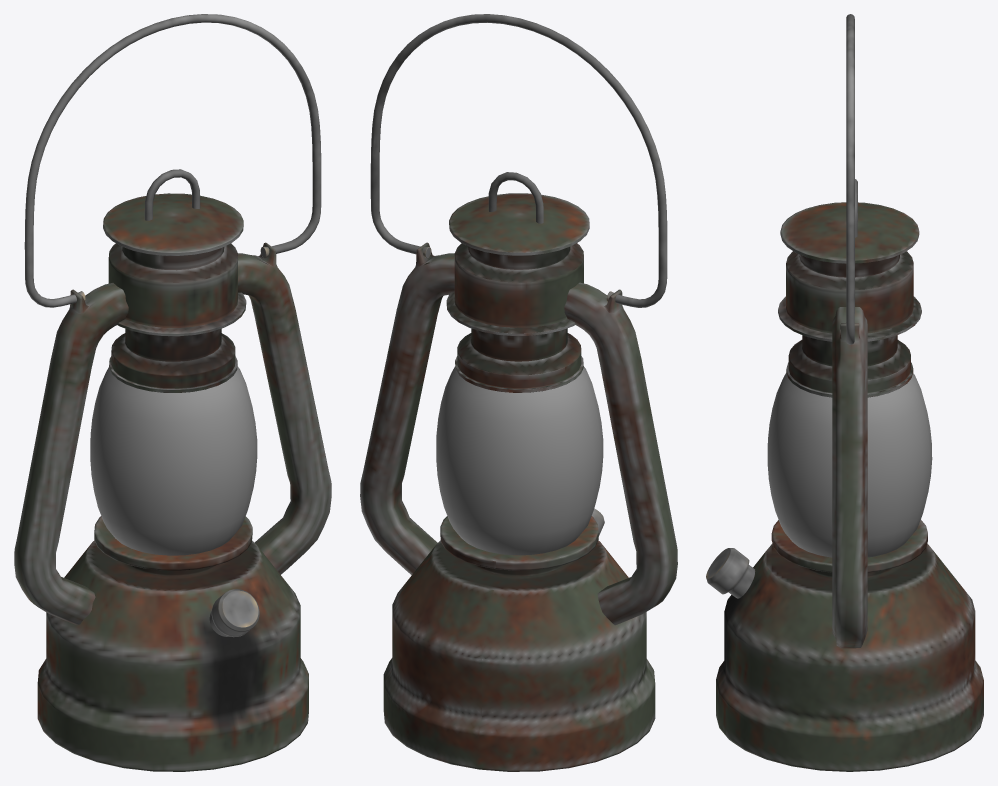
File: Lamp.FBX
The picture shows the model from 3 angles, left to right: view 1: azimuth 30°, elevation 25°; view 2: azimuth 150°, elevation 25°; view 3: azimuth 270°, elevation 25°; orthographic projection.
Parts seen in each view (by area): view 1: Lamp; view 2: Lamp; view 3: Lamp.
Part boxes in pixels (x1,y1,x2,y2): Lamp: [14, 14, 331, 771]; Lamp: [360, 14, 677, 771]; Lamp: [706, 14, 983, 771].
Bounding box in the file's own units: 18.34 × 14.53 × 39.55.
